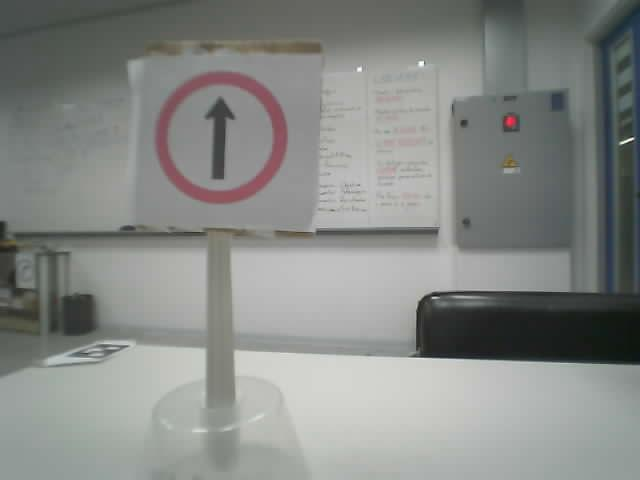R-26_frente: (154, 71, 286, 204)
